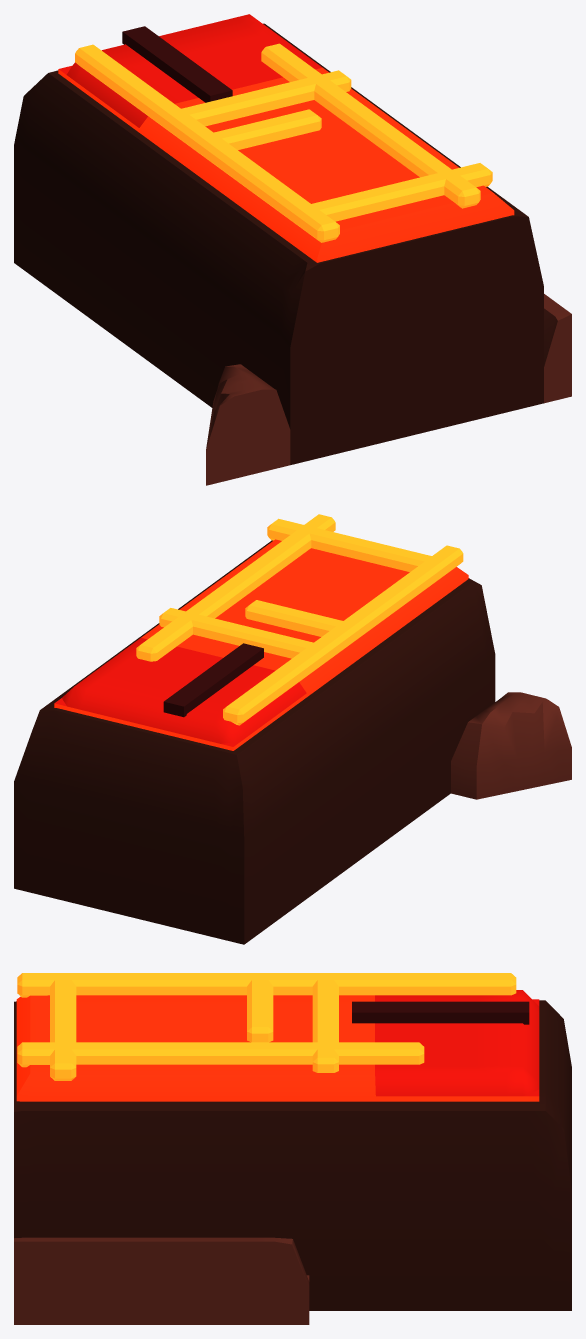
File: savara_fin_left.glb
3 renders of one model, top to bottom at view 1: azimuth 30°, elevation 25°; view 2: azimuth 150°, elevation 25°; view 3: azimuth 270°, elevation 25°, orthographic. The views are drawn at different scales.
Visible parts, largest first — view 1: fin, panel, bar0, hull1, bar1, bar4, bar2, groove, hull0, bar3; view 2: fin, panel, hull1, bar0, bar1, bar4, bar2, groove, bar3; view 3: fin, panel, hull0, bar0, bar1, groove, bar4, bar2, bar3.
Boxes of the visible parts, left/top/right/bottom form: fin: left=14, top=23, right=543, bottom=464; panel: left=58, top=14, right=514, bottom=262; bar0: left=75, top=44, right=339, bottom=242; hull1: left=206, top=364, right=290, bottom=485; bar1: left=261, top=43, right=480, bottom=208; bar4: left=293, top=163, right=492, bottom=228; bar2: left=163, top=70, right=351, bottom=133; groove: left=122, top=26, right=232, bottom=102; hull0: left=544, top=294, right=571, bottom=403; bar3: left=195, top=109, right=321, bottom=157; fin: left=14, top=540, right=495, bottom=944; panel: left=54, top=539, right=468, bottom=750; hull1: left=451, top=692, right=571, bottom=799; bar0: left=223, top=545, right=463, bottom=725; bar1: left=136, top=514, right=335, bottom=661; bar4: left=267, top=518, right=448, bottom=577; bar2: left=159, top=608, right=330, bottom=665; groove: left=163, top=643, right=263, bottom=717; bar3: left=245, top=600, right=359, bottom=642; fin: left=14, top=1000, right=571, bottom=1310; panel: left=16, top=990, right=539, bottom=1101; hull0: left=14, top=1237, right=309, bottom=1324; bar0: left=17, top=973, right=516, bottom=997; bar1: left=17, top=1042, right=424, bottom=1067; groove: left=352, top=1001, right=529, bottom=1024; bar4: left=50, top=973, right=76, bottom=1080; bar2: left=312, top=973, right=338, bottom=1072; bar3: left=247, top=973, right=273, bottom=1042.
Bounding box in the file's own units: 13 × 7.75 × 17.
